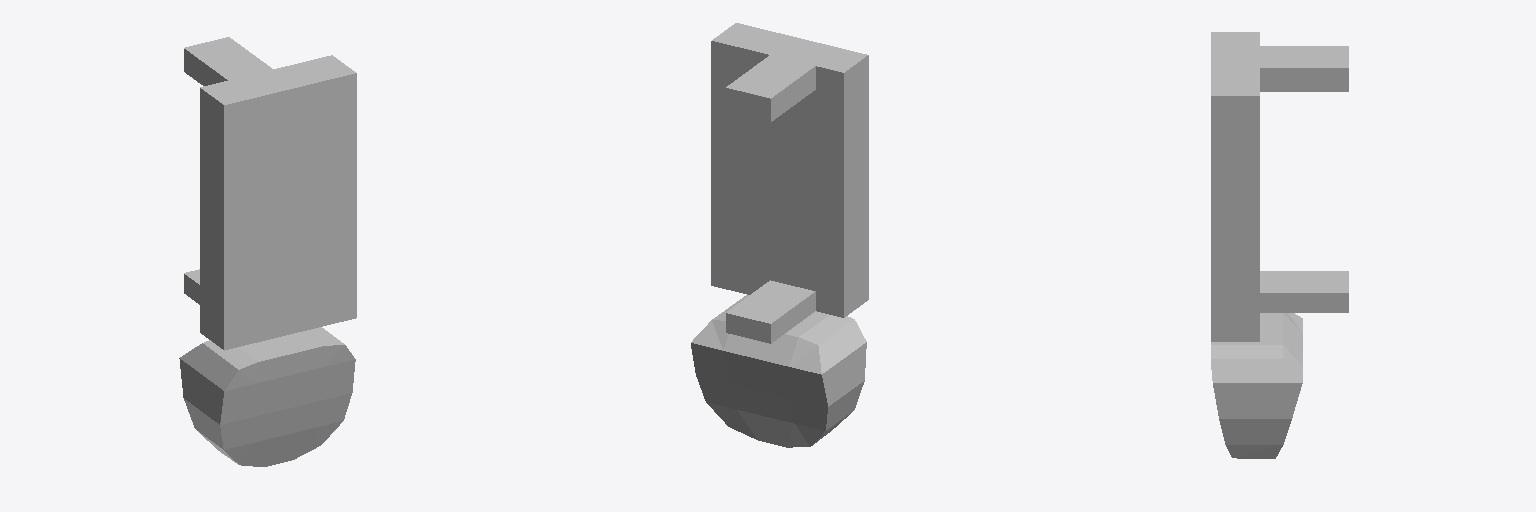
Rendered from R_AAA.obj.
3 renders of one model, left to right at view 1: azimuth 30°, elevation 25°; view 2: azimuth 150°, elevation 25°; view 3: azimuth 270°, elevation 25°, orthographic.
Parts seen in each view (by area): view 1: R_AAA; view 2: R_AAA; view 3: R_AAA.
Boxes of the visible parts, <box> form: R_AAA: <box>179,37,356,466</box>; R_AAA: <box>691,23,868,447</box>; R_AAA: <box>1211,32,1348,458</box>.
Size of the model in its own units: 3.51 by 9.69 by 3.18.